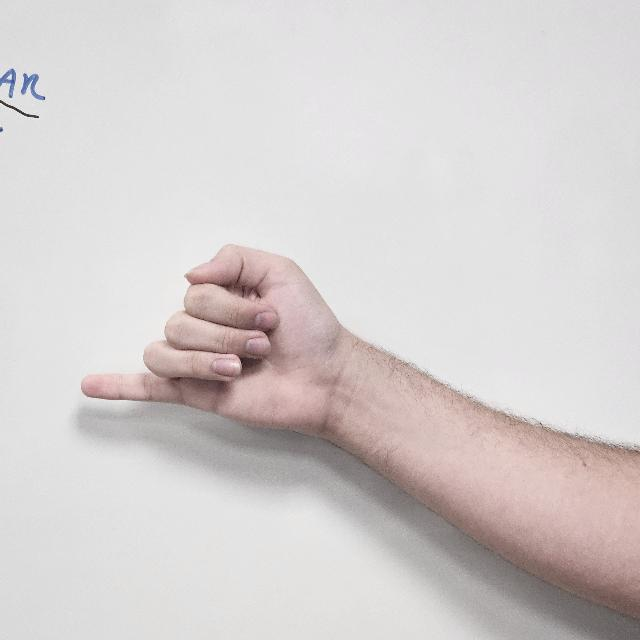Esquerda: (78, 229, 342, 466)
